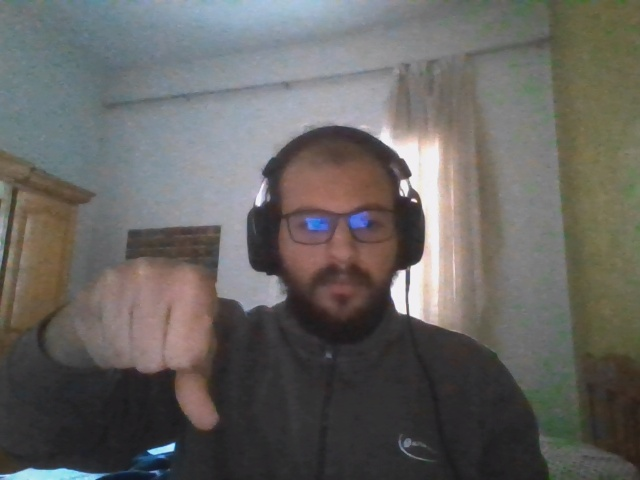Yes: (73, 257, 218, 427)
